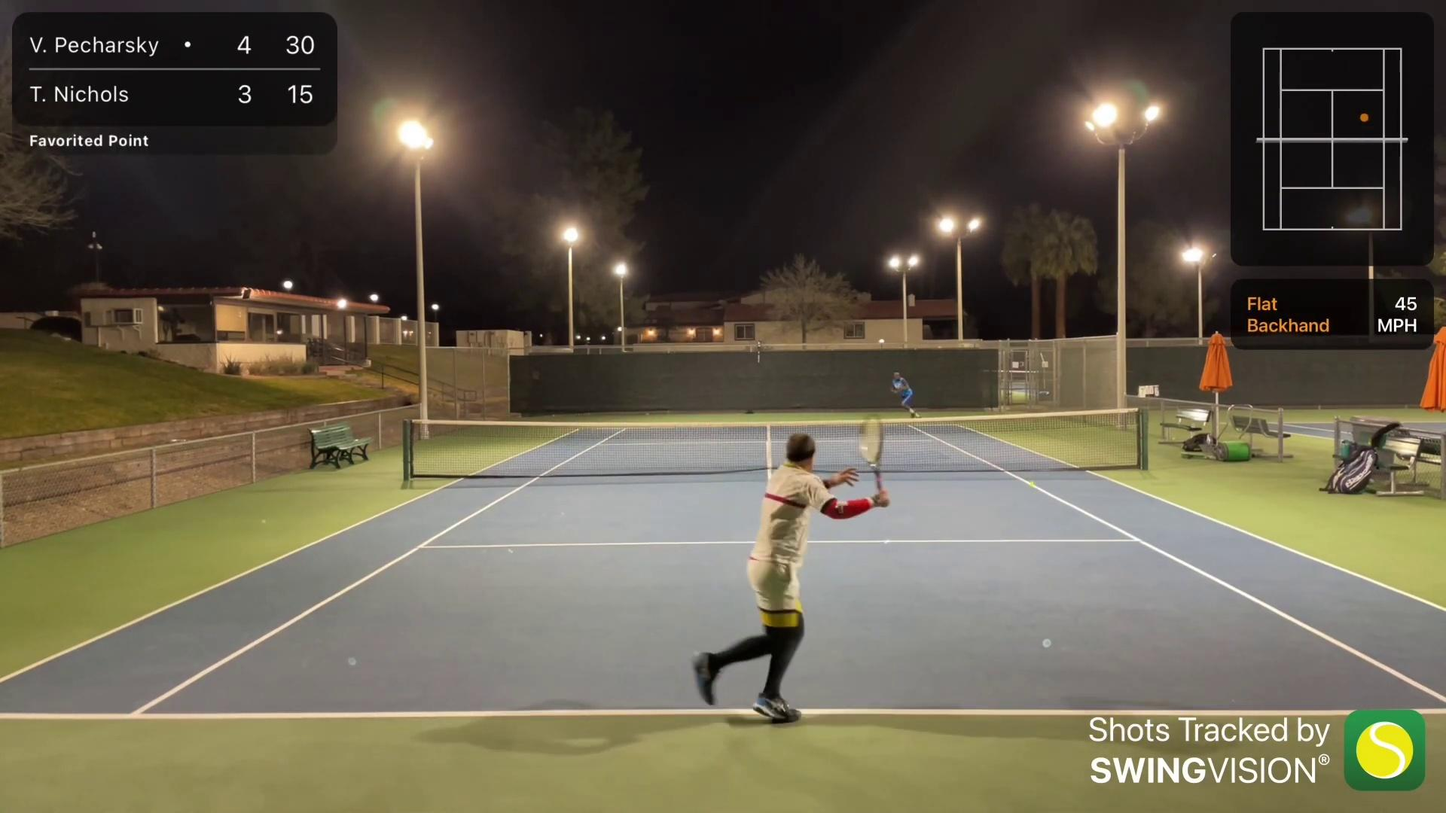ball: (1031, 483, 1034, 488)
